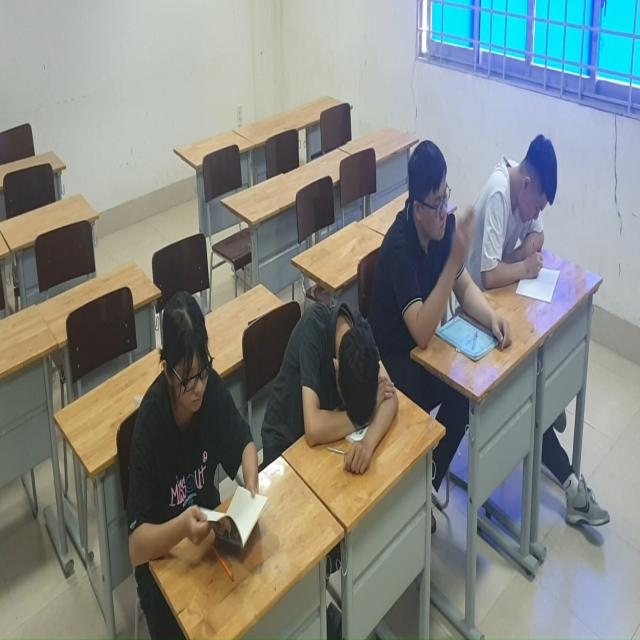raise_hand: (396, 138, 478, 346)
read: (125, 273, 273, 584), (480, 129, 564, 322)
sleep: (285, 295, 401, 490)
